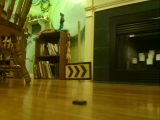right: (65, 63, 91, 79)
